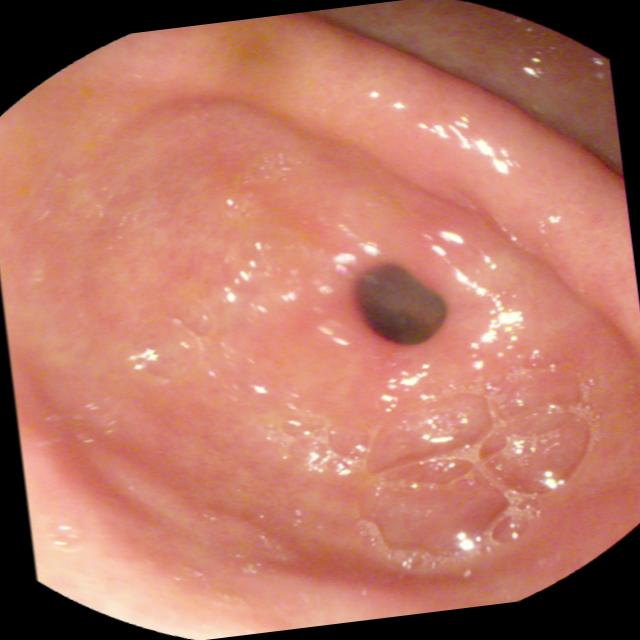normal-pylorus: (113, 182, 612, 472)
